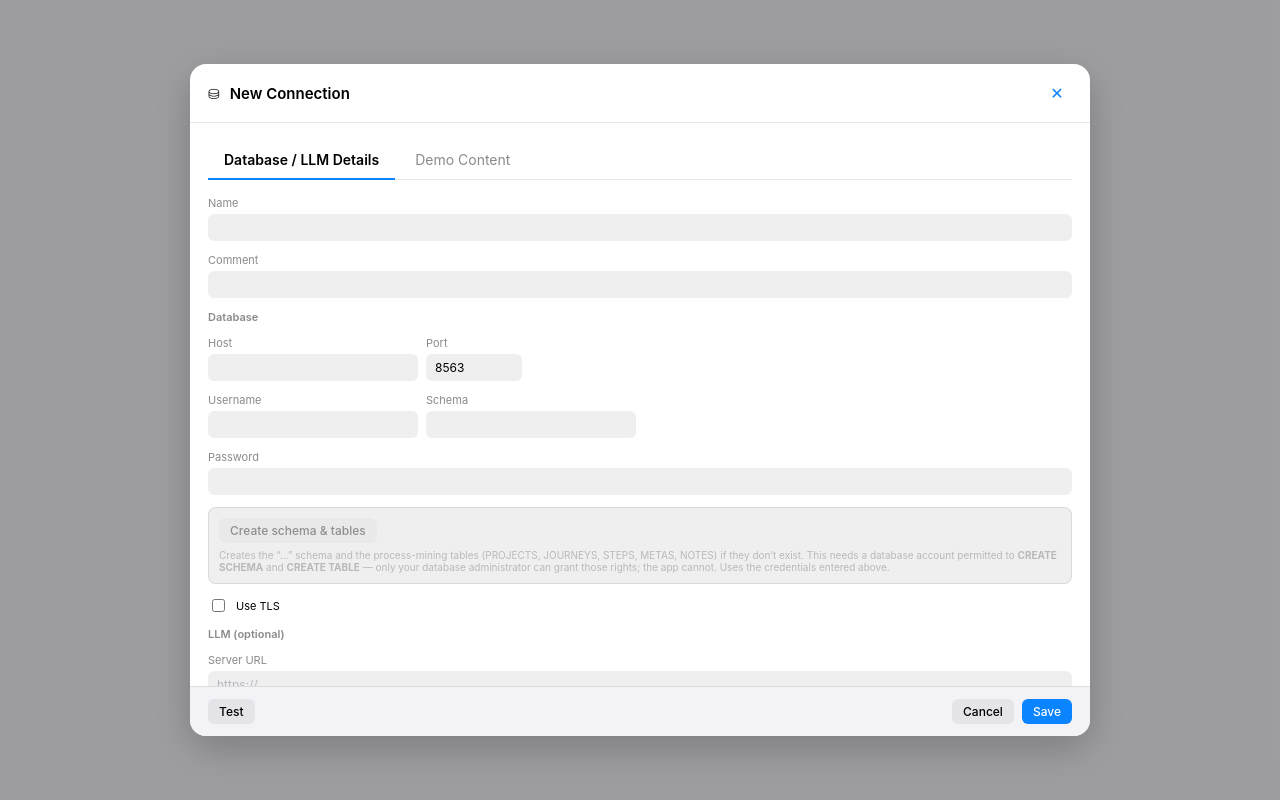
Test case: ConnectionEditor › generates the retail (bookstore) dataset from the Retail section, with a typed count
Click the button "Demo Content" at (463, 160), box [399,141,526,180]
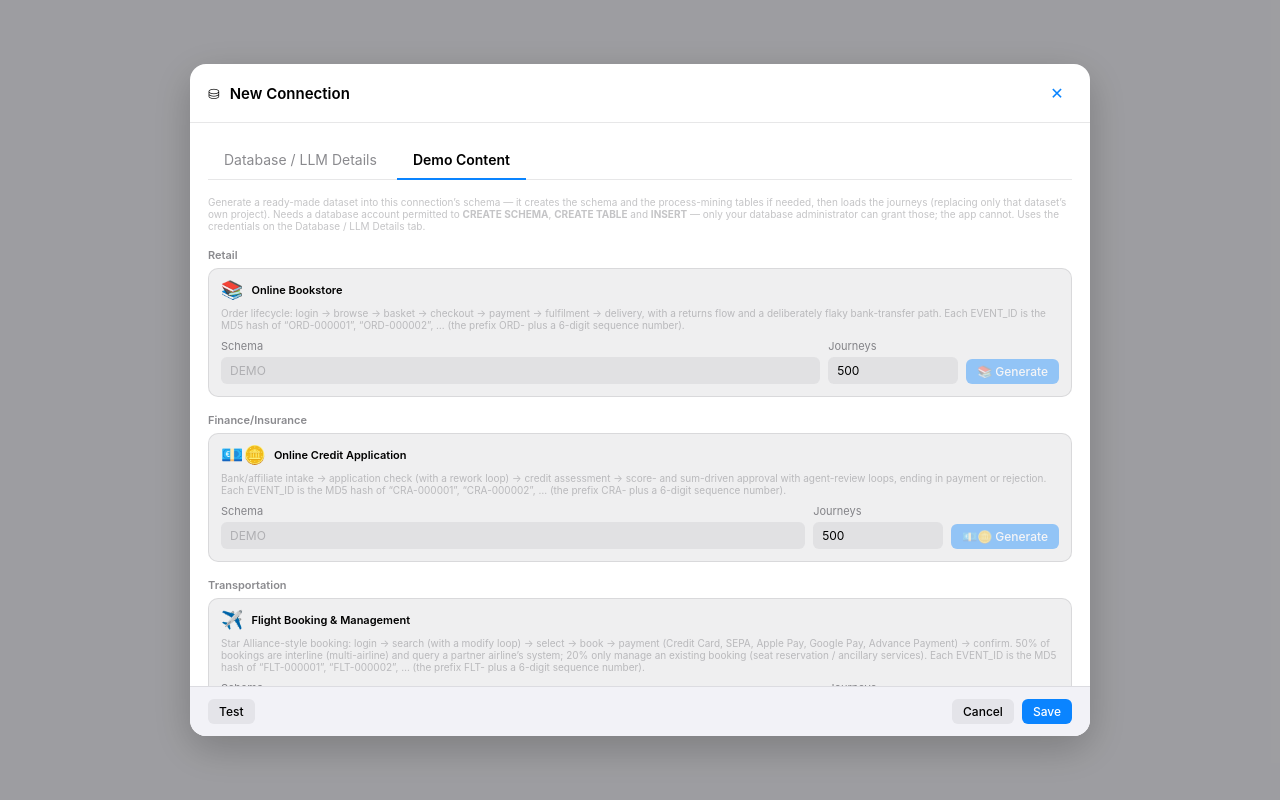
Type "PM" into the field labelled "Schema" below "Online Bookstore" at (521, 370), box [221,357,820,384]
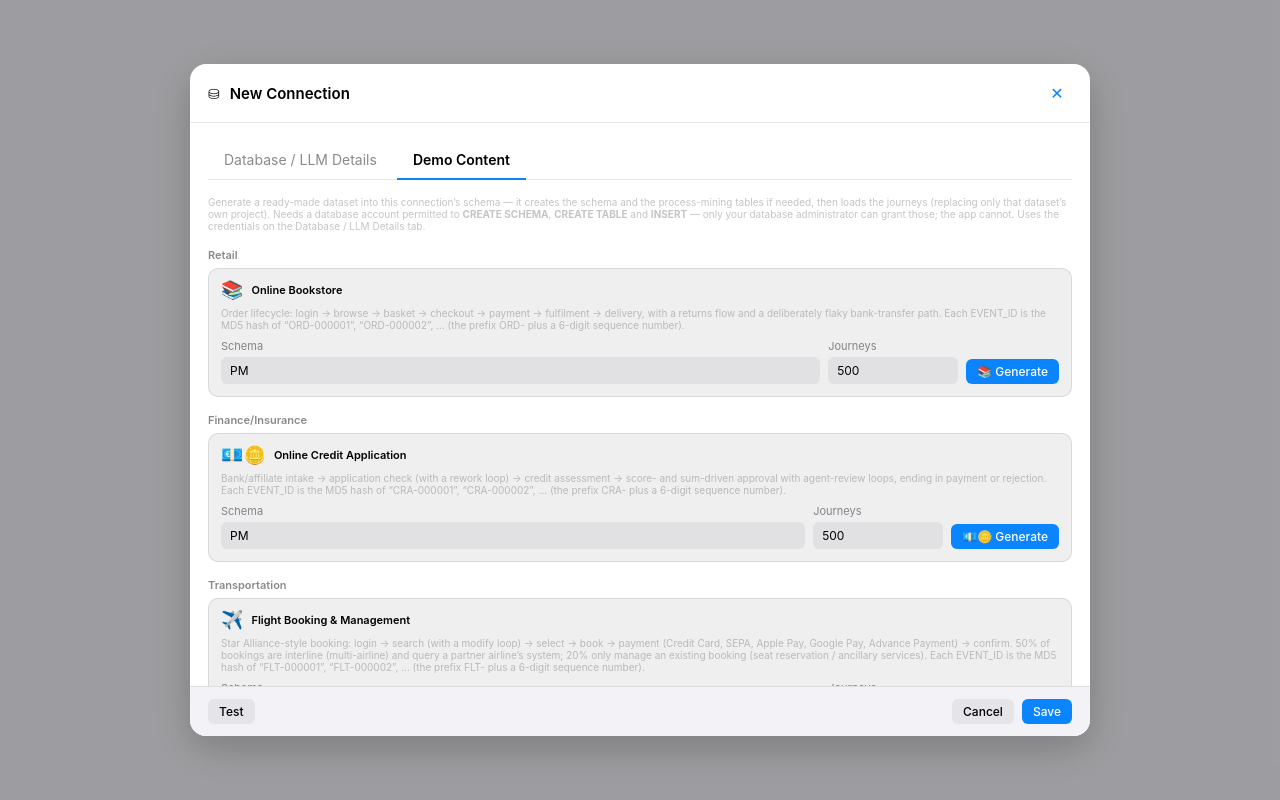
Replace the text in the 1st number field labelled "Journeys" with "250" at (893, 370), box [828,357,958,384]
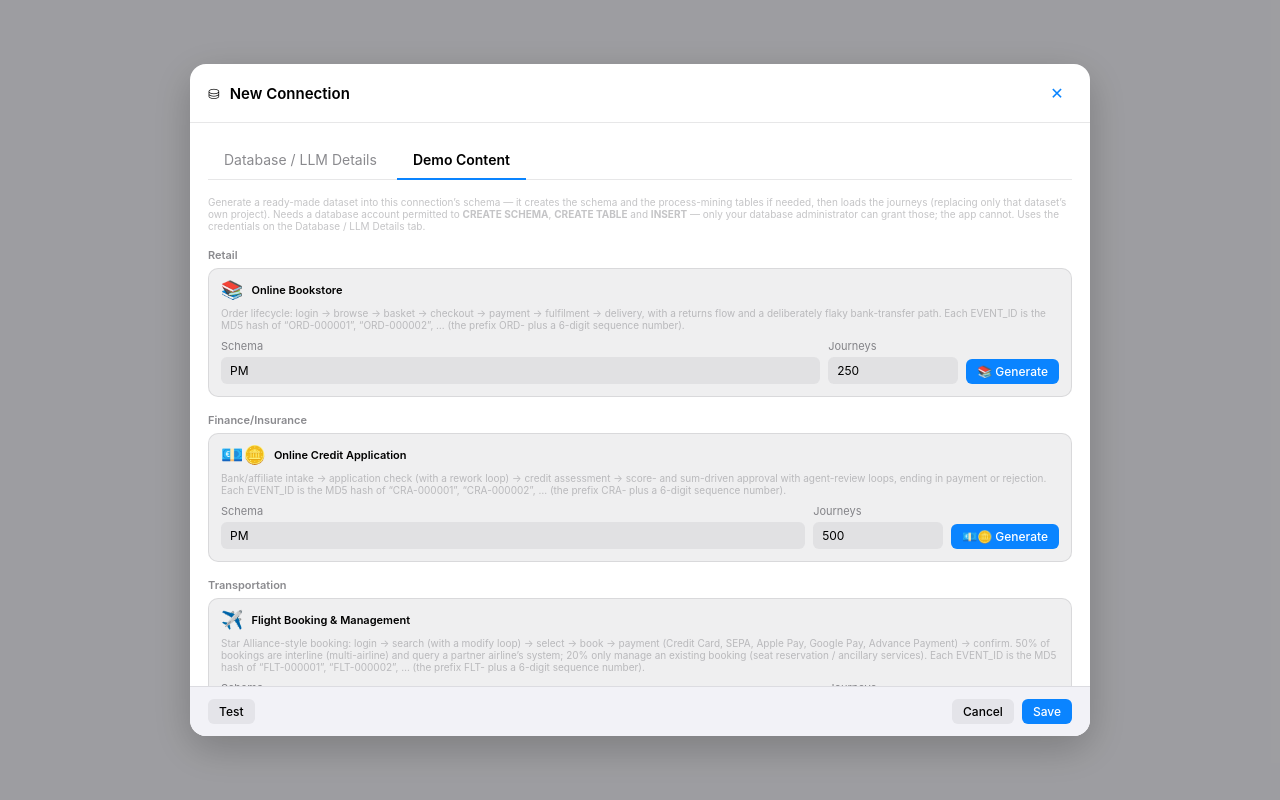
Click the button "📚 Generate" at (1013, 372), box [966,359,1059,384]
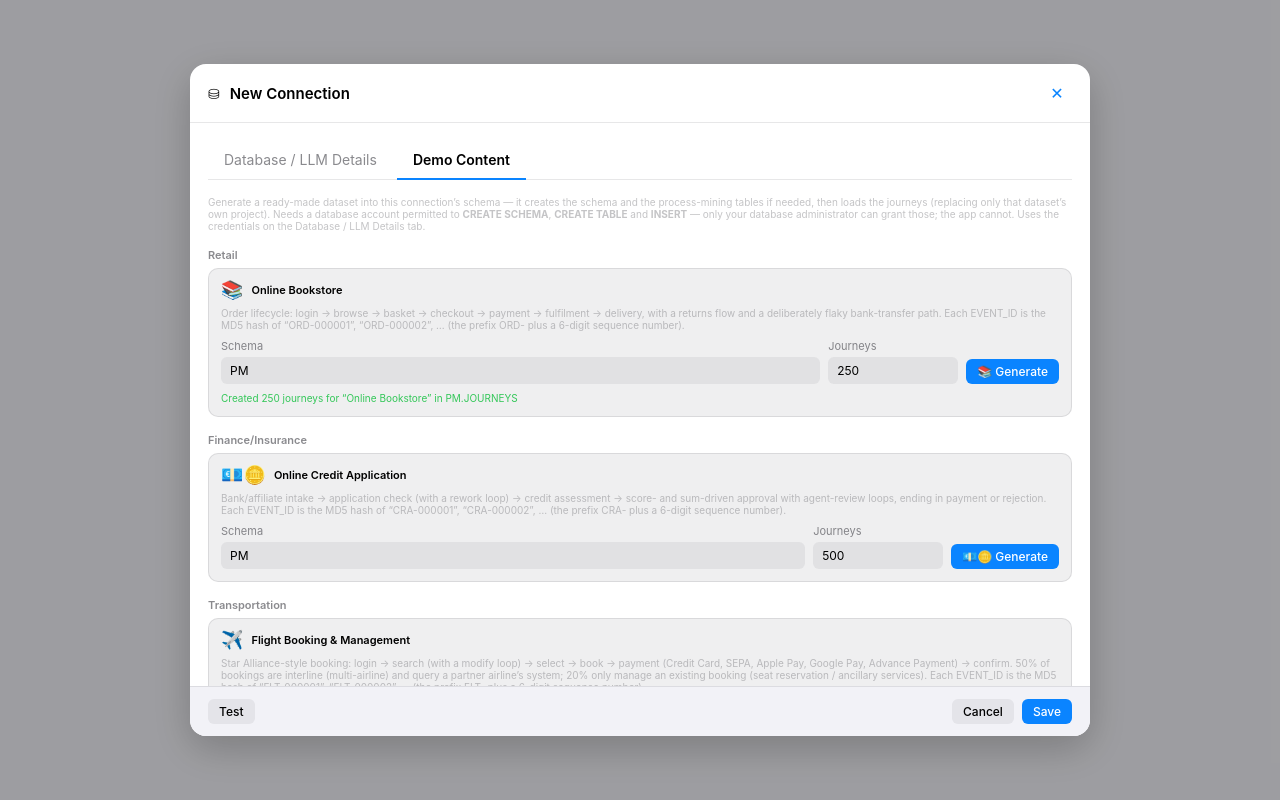
Result: the text "Created 250 journeys for “Online Bookstore” in PM.JOURNEYS" is shown at [221,392,518,404]
